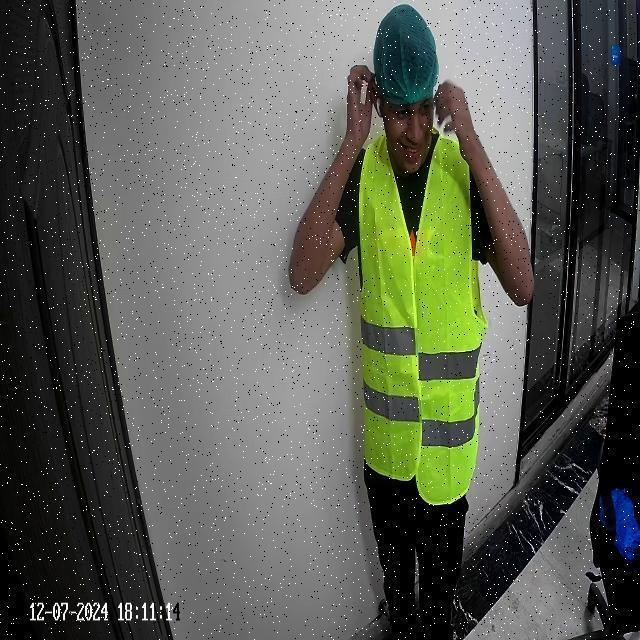gloves: (381, 2, 434, 108)
no_apron: (336, 54, 372, 140), (438, 70, 468, 150)
no_hairnet: (383, 124, 440, 166)
